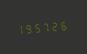five: (34, 20, 41, 34)
nine: (25, 21, 32, 34)
one: (17, 22, 24, 35)
seven: (42, 20, 49, 33)
six: (58, 18, 65, 32)
two: (50, 19, 57, 32)
